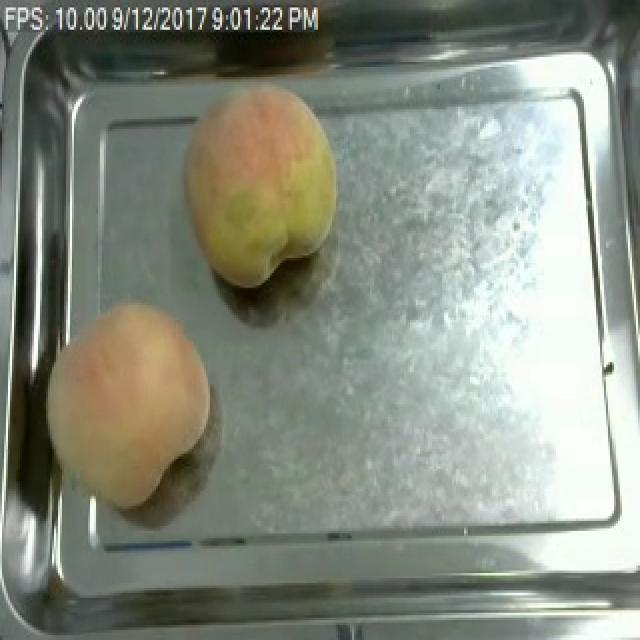Fruit: (38, 290, 220, 514), (174, 74, 350, 296)
